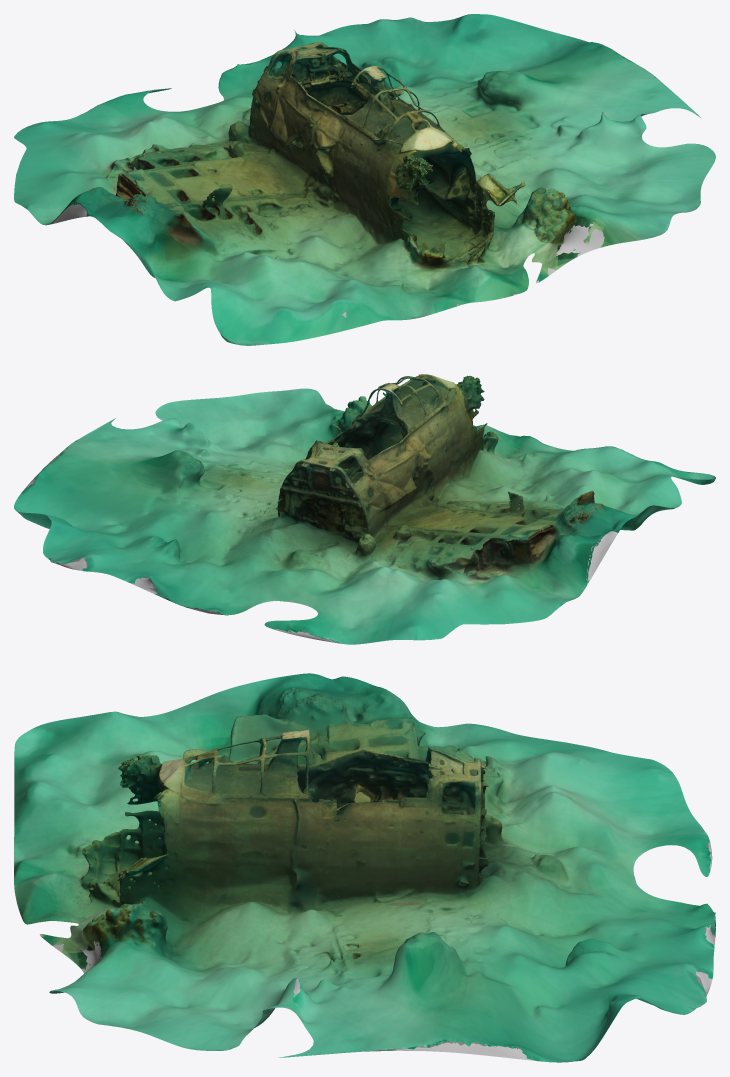
File: japanese_zero_plane_wreck.glb
3 views of the same model, one above another, from view 1: azimuth 30°, elevation 25°; view 2: azimuth 150°, elevation 25°; view 3: azimuth 270°, elevation 25° (orthographic). The views are drawn at different scales.
Visible parts, largest first — view 1: Object_4, Object_2, Object_6, Object_5, Object_3, Object_8, Object_7; view 2: Object_6, Object_4, Object_2, Object_5, Object_8, Object_3; view 3: Object_4, Object_6, Object_2, Object_5, Object_8.
Part boxes in pixels (<box>): Object_4: <box>73,14,715,342</box>; Object_2: <box>14,39,701,307</box>; Object_6: <box>14,33,648,282</box>; Object_5: <box>21,47,451,345</box>; Object_3: <box>244,71,416,239</box>; Object_8: <box>50,50,628,317</box>; Object_7: <box>247,155,366,233</box>; Object_6: <box>59,374,587,624</box>; Object_4: <box>14,377,672,611</box>; Object_2: <box>71,374,688,644</box>; Object_5: <box>217,376,715,644</box>; Object_8: <box>23,428,617,643</box>; Object_3: <box>371,384,509,512</box>; Object_4: <box>14,679,715,1062</box>; Object_6: <box>85,717,715,1047</box>; Object_2: <box>64,673,705,1057</box>; Object_5: <box>14,698,710,879</box>; Object_8: <box>14,792,715,1060</box>.
Size of the model in its own units: 85.84 by 20.26 by 74.33.
4 materials, 3 textured.
